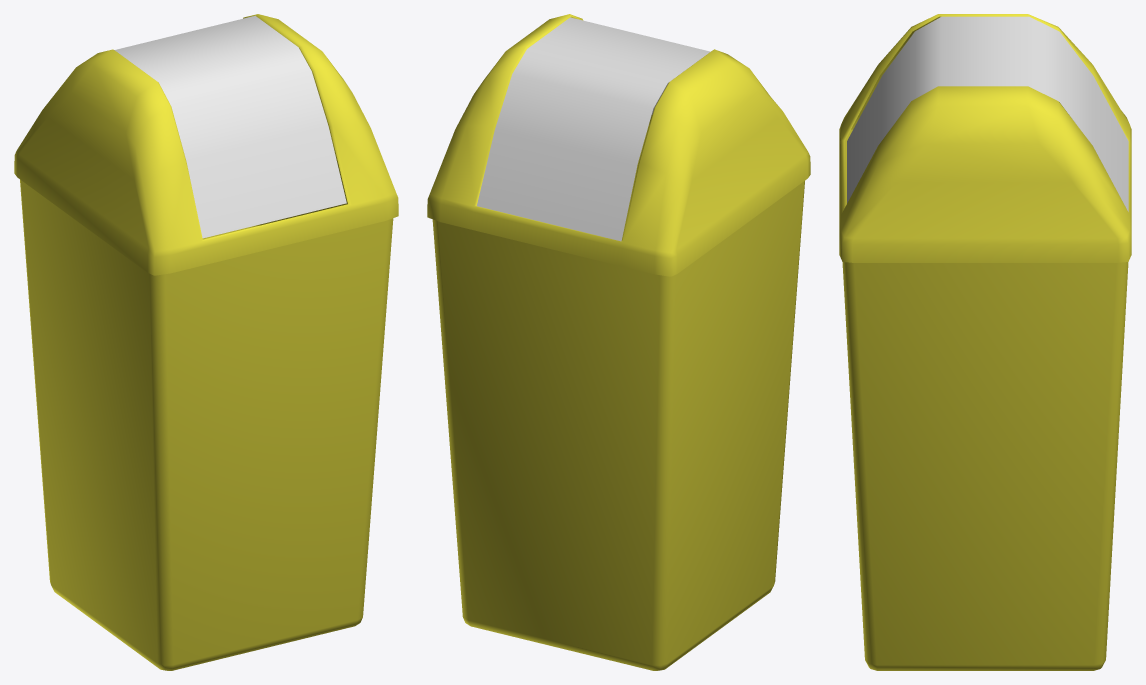
The model's file is anorganik.fbx.
3 renders of one model, left to right at view 1: azimuth 30°, elevation 25°; view 2: azimuth 150°, elevation 25°; view 3: azimuth 270°, elevation 25°, orthographic. The views are drawn at different scales.
Visible parts, largest first — view 1: Trashcan_01_body, Trashcan_01_cover, Trashcan_01_lid; view 2: Trashcan_01_body, Trashcan_01_cover, Trashcan_01_lid; view 3: Trashcan_01_body, Trashcan_01_cover, Trashcan_01_lid.
Boxes of the visible parts, left/top/right/bottom form: Trashcan_01_body: left=20, top=160, right=393, bottom=670; Trashcan_01_cover: left=14, top=14, right=398, bottom=275; Trashcan_01_lid: left=114, top=15, right=346, bottom=238; Trashcan_01_body: left=432, top=124, right=804, bottom=670; Trashcan_01_cover: left=427, top=14, right=810, bottom=276; Trashcan_01_lid: left=477, top=17, right=710, bottom=241; Trashcan_01_body: left=842, top=129, right=1128, bottom=670; Trashcan_01_cover: left=839, top=14, right=1131, bottom=262; Trashcan_01_lid: left=847, top=16, right=1128, bottom=211.
Bounding box in the file's own units: 24.4 × 52.88 × 24.4.
